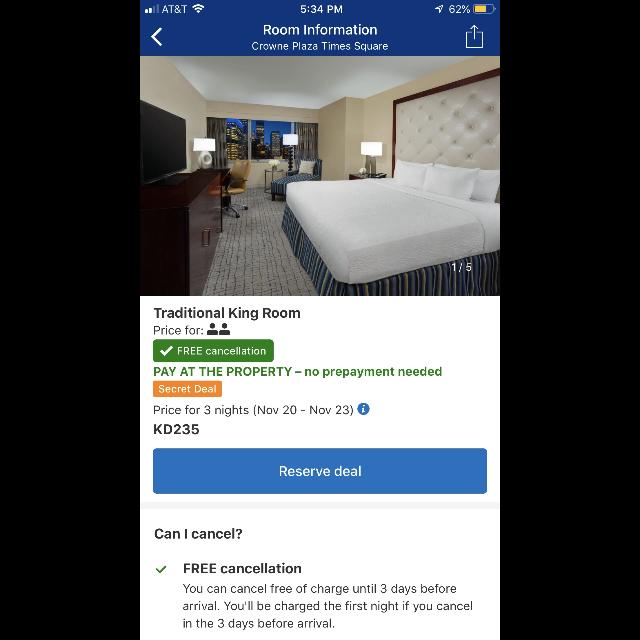icon: (466, 25, 482, 49), (208, 322, 230, 336), (152, 28, 162, 46), (358, 403, 370, 415), (156, 566, 167, 572)
image: (140, 56, 500, 296)
text: (184, 584, 472, 630), (154, 367, 442, 378), (154, 405, 352, 417), (154, 307, 300, 321), (184, 562, 300, 574), (252, 42, 388, 52), (264, 24, 376, 36), (156, 528, 242, 540), (155, 424, 199, 434), (154, 326, 203, 334), (451, 264, 471, 272)
textbutton: (153, 448, 487, 494), (153, 340, 273, 362), (154, 381, 222, 397)
uppertaskbar: (140, 0, 500, 14)
